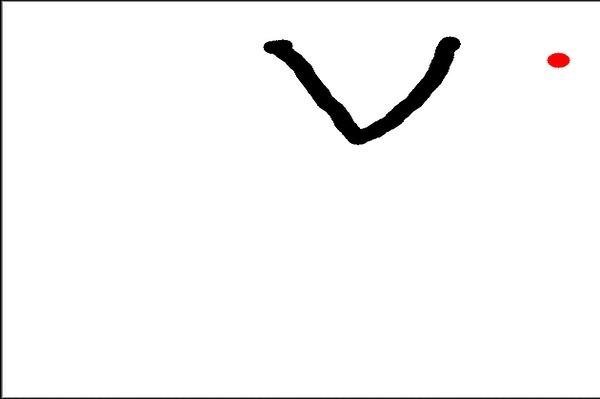V: (259, 31, 460, 155)
